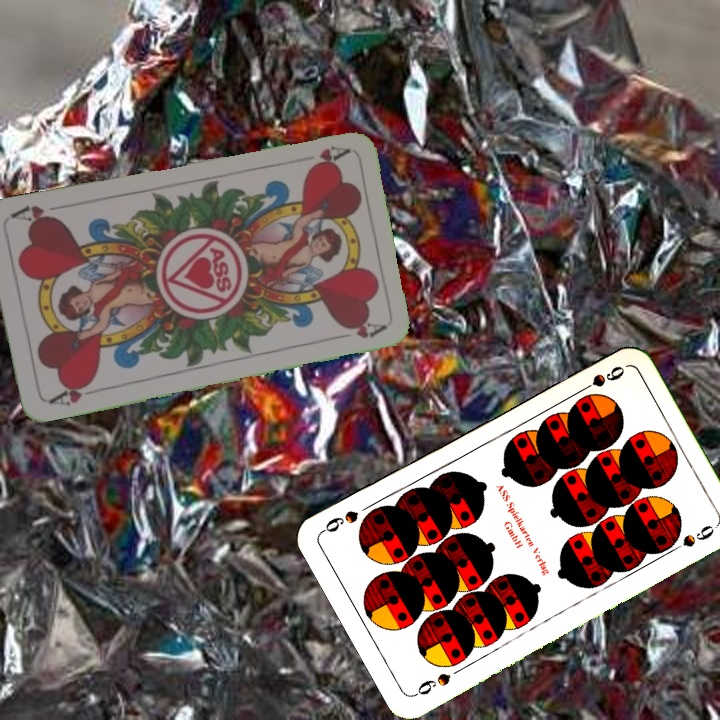HA: (44, 377, 101, 409), (303, 142, 351, 174)
S9: (572, 361, 628, 397), (410, 668, 454, 699)
